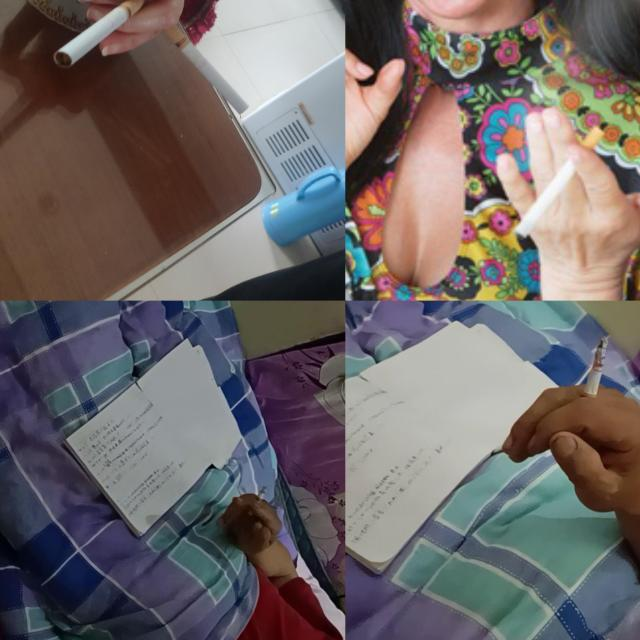smoking: (513, 124, 606, 238), (160, 15, 250, 116), (52, 0, 147, 70), (579, 336, 609, 412), (246, 486, 268, 516)
